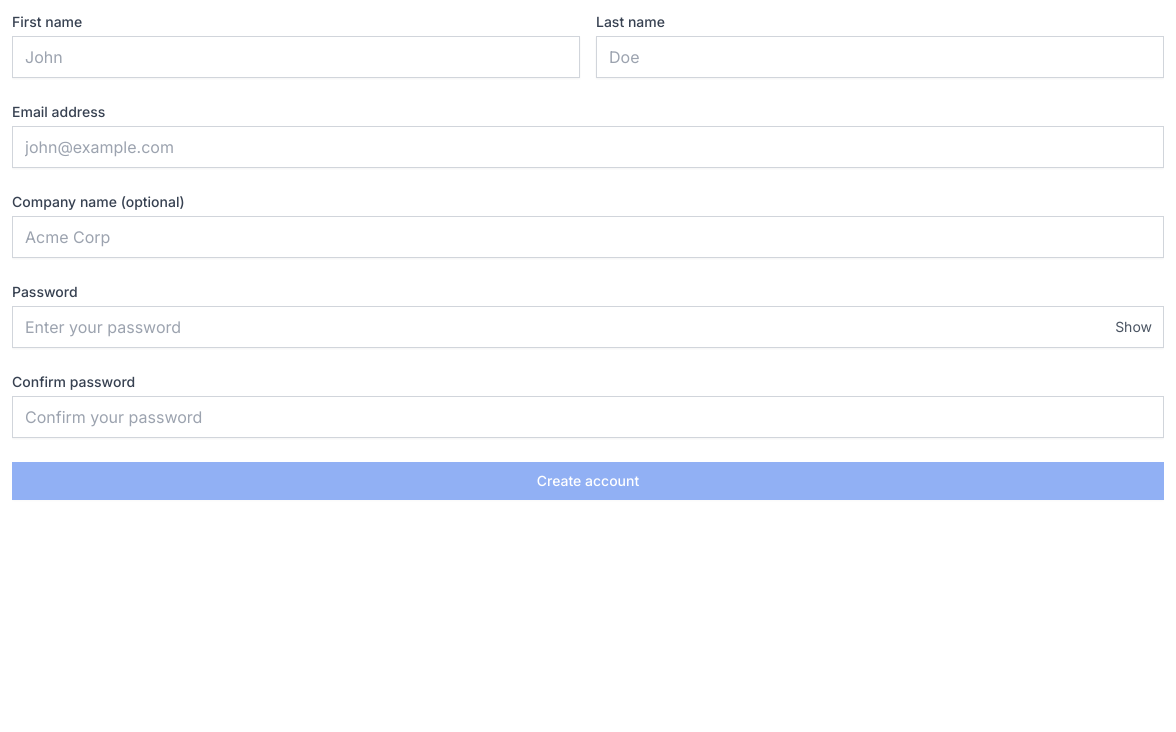
Test case: SignupForm › validates password complexity
The image size is (1176, 732).
In the password field labelled "Password": (588, 327) [12,306,1164,348], type "weak"
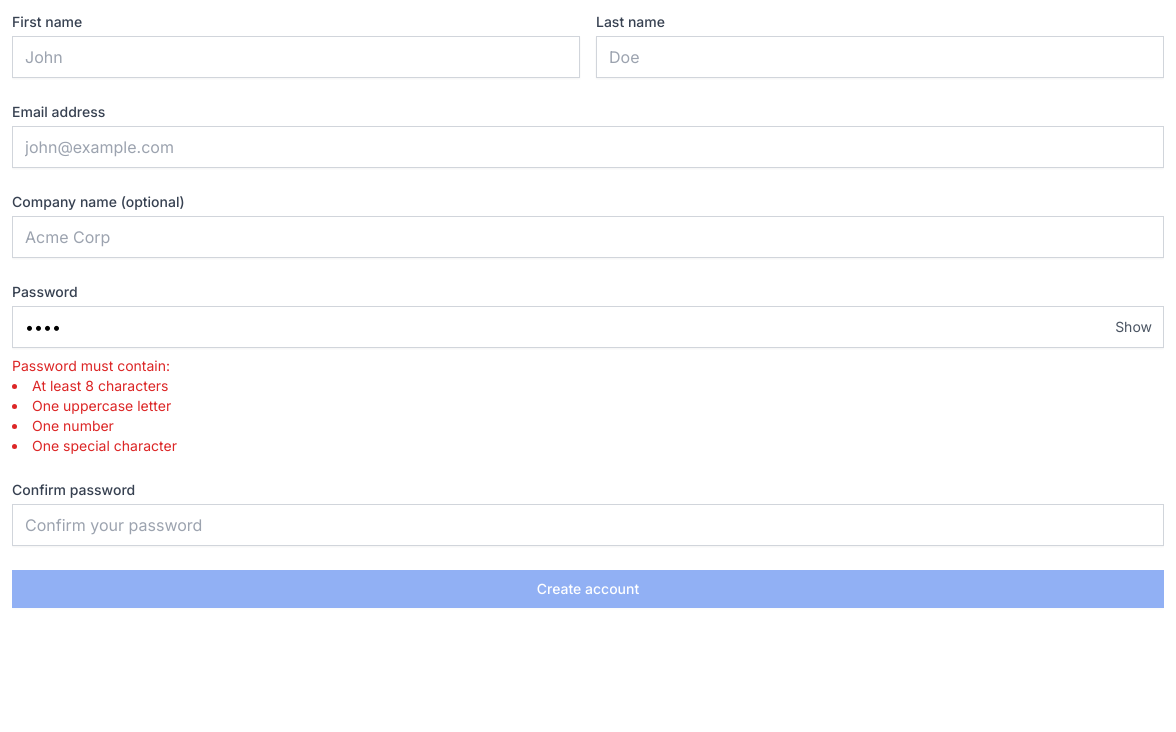
Result: the text "Password must contain:" is shown at [12,357,170,374]
Result: the list item "At least 8 characters" is shown at [32,377,168,394]
